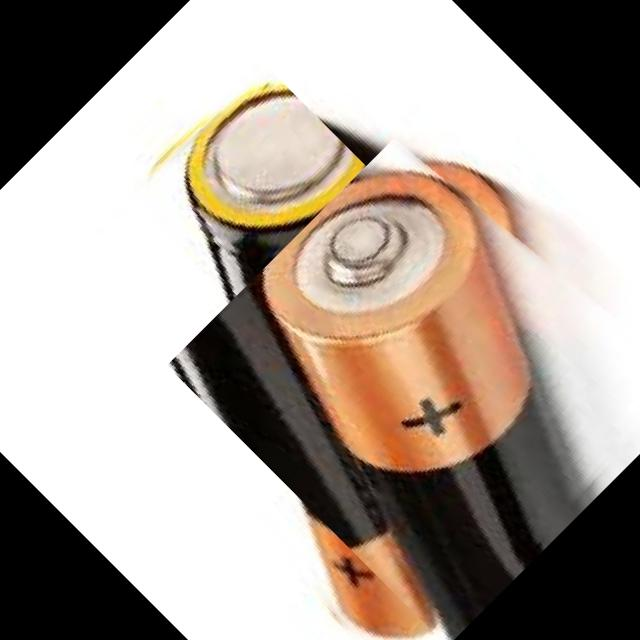Hazard: (10, 55, 633, 640), (165, 109, 640, 640)
